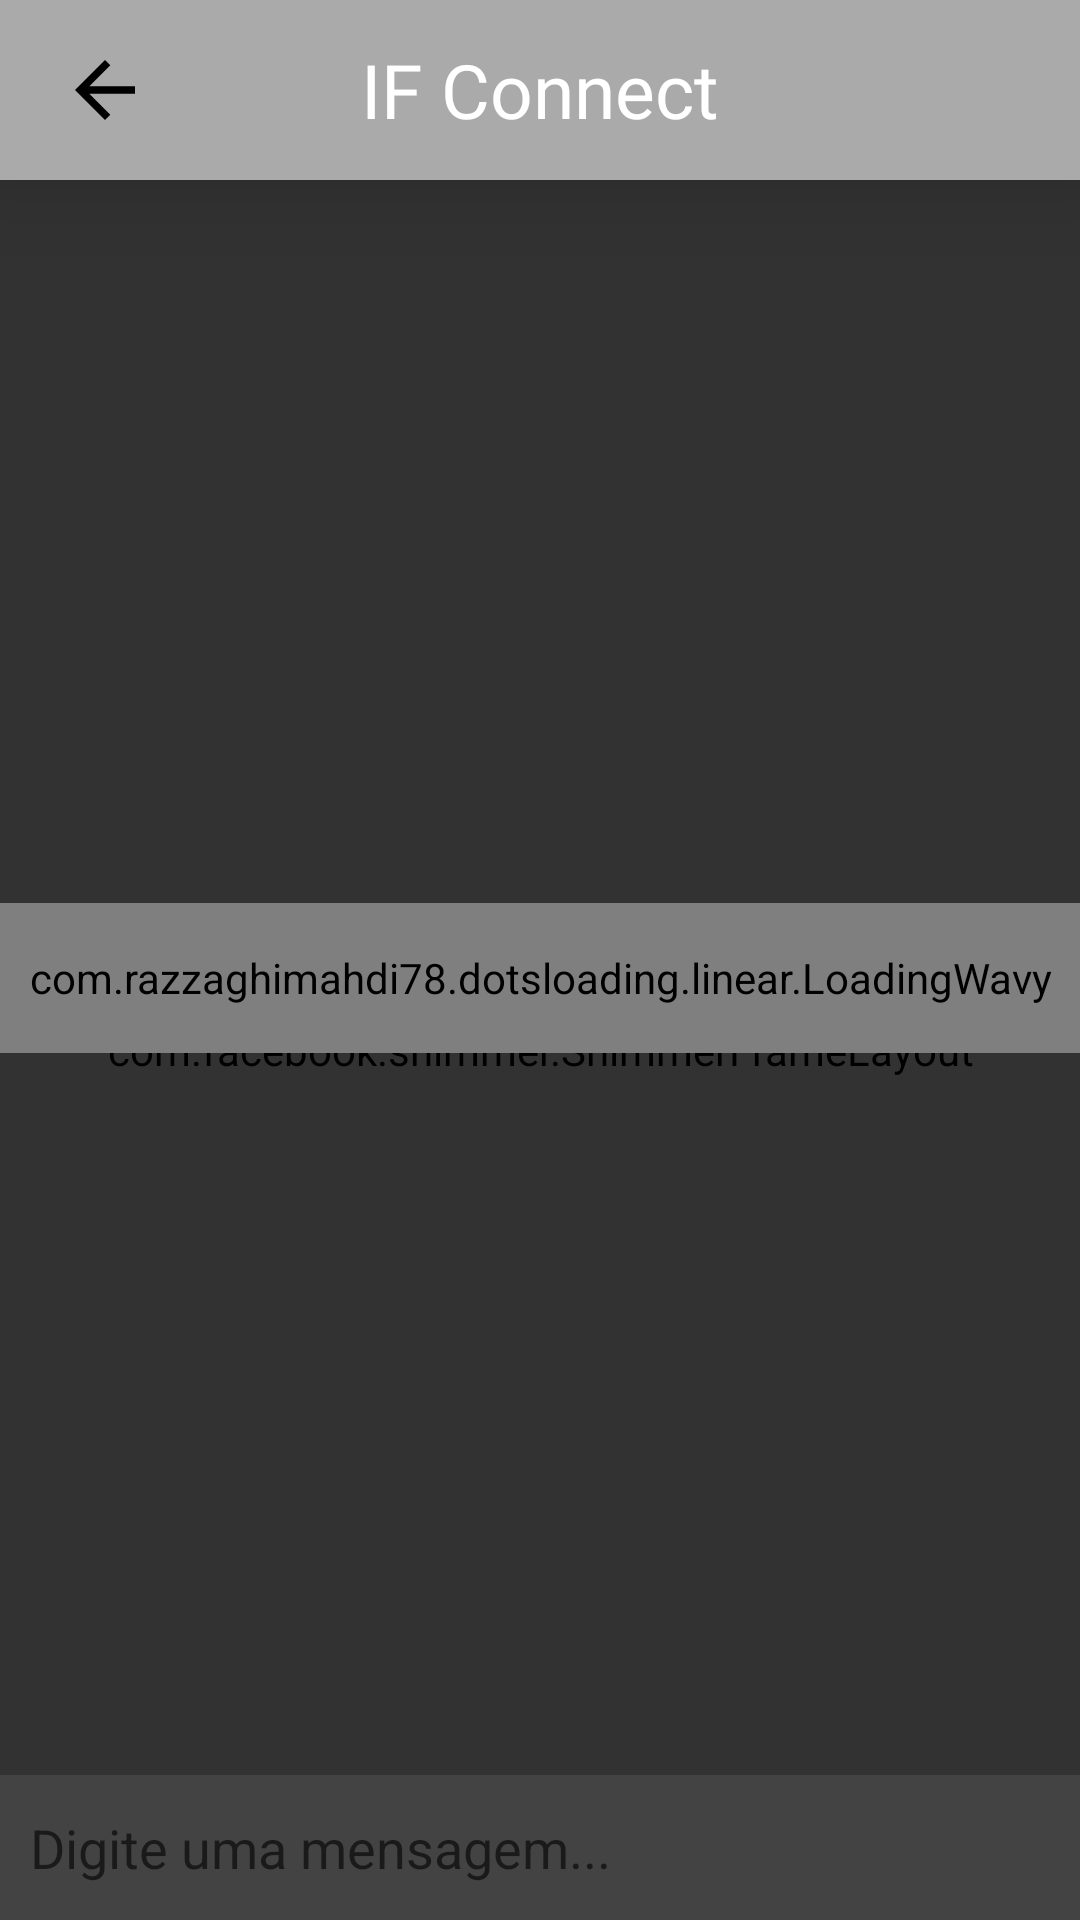

Icons on this 1080w x 1920h Android screen, each with its box as bbox=[x1, y1, x2, y2]:
back: bbox=[75, 60, 135, 120]
